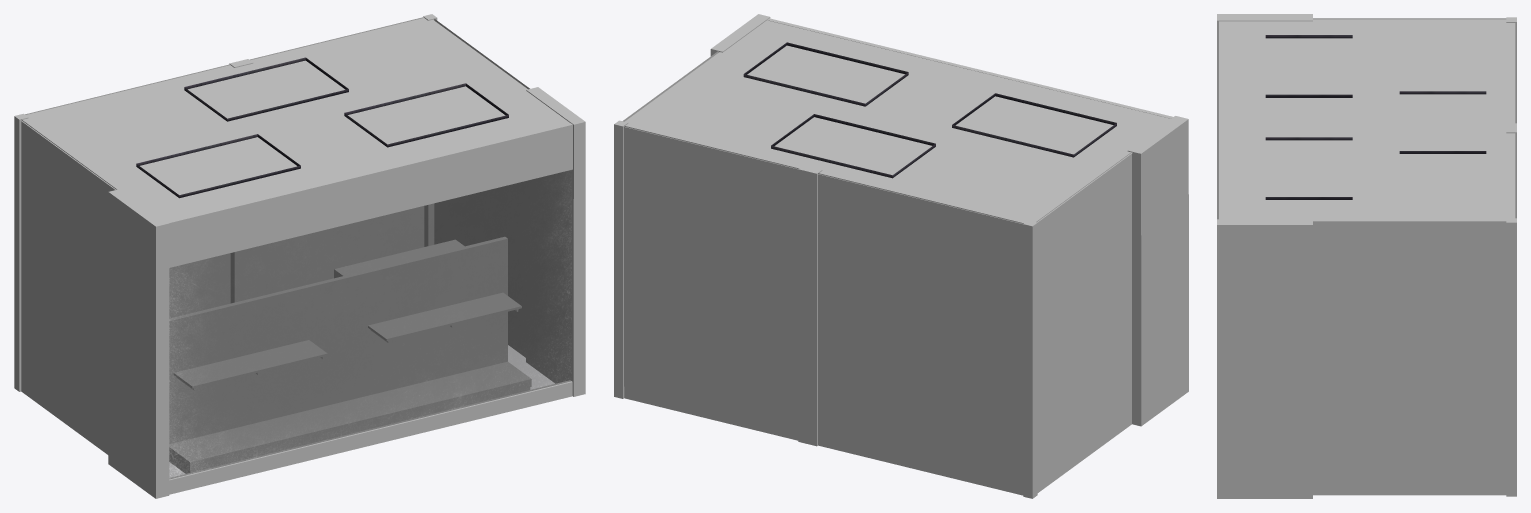
File: shop_21b.fbx
The picture shows the model from 3 angles, left to right: view 1: azimuth 30°, elevation 25°; view 2: azimuth 150°, elevation 25°; view 3: azimuth 270°, elevation 25°; orthographic projection.
Visible parts, largest first — view 1: shop_21b; view 2: shop_21b; view 3: shop_21b.
Part boxes in pixels (x1,y1,x2,y2): shop_21b: (14,14,585,498); shop_21b: (614,14,1188,498); shop_21b: (1217,14,1516,498).
Size of the model in its own units: 5.29 by 3.23 by 3.18.
